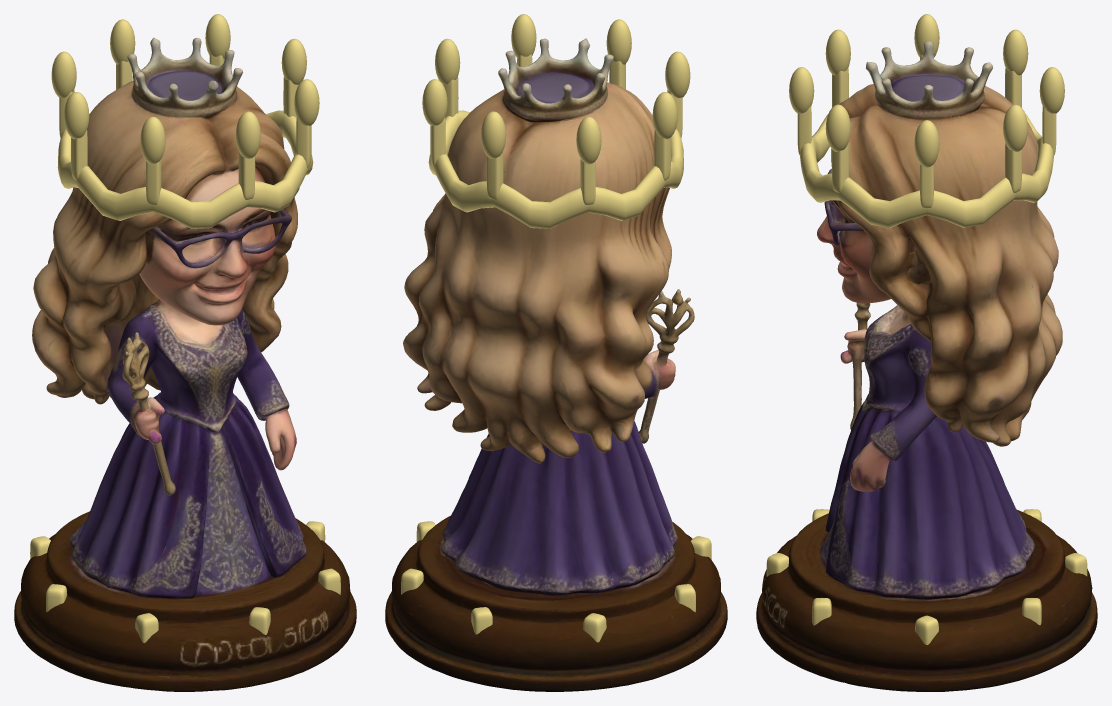
The model's file is queen-kate-young.glb.
3 renders of one model, left to right at view 1: azimuth 30°, elevation 25°; view 2: azimuth 150°, elevation 25°; view 3: azimuth 270°, elevation 25°, orthographic.
Visible parts, largest first — view 1: world, UniversalRoleAddon_q; view 2: world, UniversalRoleAddon_q; view 3: world, UniversalRoleAddon_q.
Boxes of the visible parts, bbox=[...] form: world: bbox=[14, 37, 356, 691]; UniversalRoleAddon_q: bbox=[30, 14, 340, 642]; world: bbox=[385, 38, 727, 691]; UniversalRoleAddon_q: bbox=[401, 14, 711, 642]; world: bbox=[756, 41, 1097, 691]; UniversalRoleAddon_q: bbox=[766, 14, 1087, 644].
Bounding box in the file's own units: 0.5535 × 1 × 0.5538.
2 materials, 1 textured.
